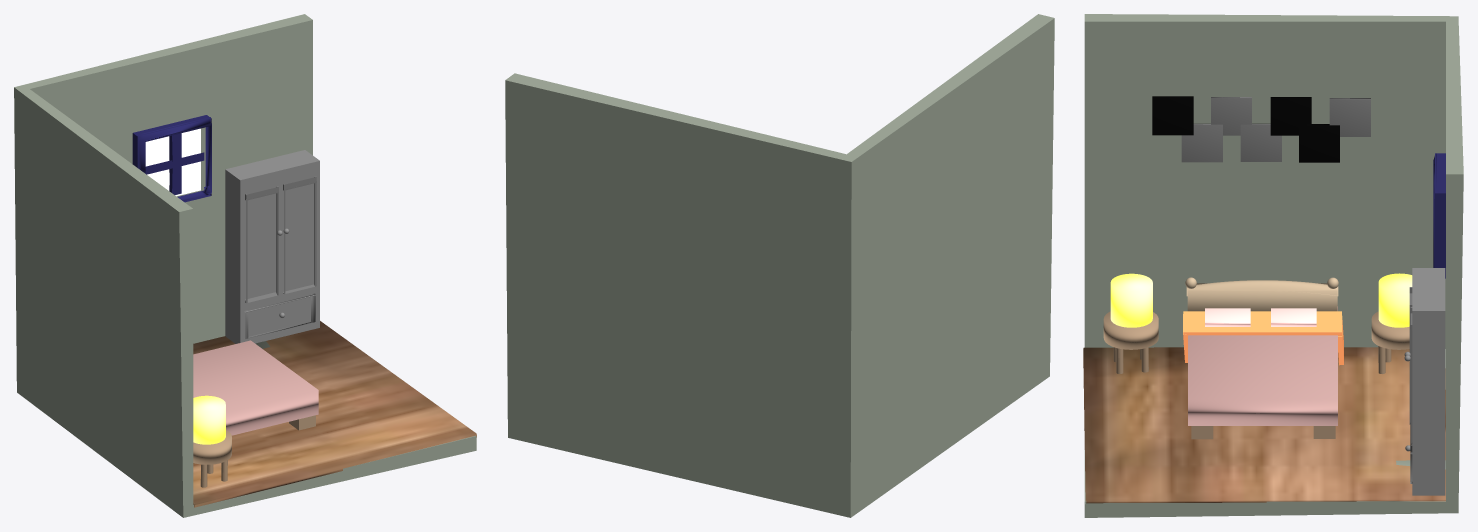
Rendered from myhomeFour.glb.
3 renders of one model, left to right at view 1: azimuth 30°, elevation 25°; view 2: azimuth 150°, elevation 25°; view 3: azimuth 270°, elevation 25°, orthographic. The views are drawn at different scales.
Parts seen in each view (by area): view 1: Cube.028, Cube.001, Cube.016, Cube.002, Cube.027, Cube.014, Cylinder.005, Cube.015, Cylinder, Cube.017, Cube.018, Cube.013 (+1 smaller); view 2: Cube.028; view 3: Cube.028, Cube.001, Cube.002, Cube.016, Cube.007, Cube.009, Cylinder.005, Cylinder.011, Cube.020, Cube.025, Cube.021, Cube.026 (+9 smaller).
Part boxes in pixels (left/top/right/bottom): Cube.028: left=14, top=14, right=476, bottom=517; Cube.001: left=193, top=321, right=476, bottom=507; Cube.016: left=225, top=150, right=319, bottom=343; Cube.002: left=193, top=340, right=318, bottom=435; Cube.027: left=145, top=128, right=200, bottom=196; Cube.014: left=137, top=117, right=211, bottom=200; Cylinder.005: left=193, top=395, right=225, bottom=444; Cube.015: left=145, top=133, right=204, bottom=194; Cylinder: left=193, top=430, right=231, bottom=464; Cube.017: left=245, top=186, right=278, bottom=303; Cube.018: left=283, top=176, right=316, bottom=294; Cube.013: left=132, top=115, right=211, bottom=202; Cube.028: left=505, top=14, right=1054, bottom=517; Cube.028: left=1084, top=14, right=1463, bottom=517; Cube.001: left=1083, top=347, right=1445, bottom=503; Cube.002: left=1188, top=306, right=1337, bottom=425; Cube.016: left=1412, top=268, right=1445, bottom=495; Cube.007: left=1187, top=283, right=1337, bottom=311; Cube.009: left=1183, top=311, right=1341, bottom=336; Cylinder.005: left=1110, top=273, right=1152, bottom=327; Cylinder.011: left=1378, top=273, right=1412, bottom=327; Cube.020: left=1152, top=96, right=1193, bottom=135; Cube.025: left=1299, top=124, right=1339, bottom=162; Cube.021: left=1181, top=123, right=1222, bottom=162; Cube.026: left=1329, top=98, right=1370, bottom=136.
Size of the model in its own units: 7.46 by 7.44 by 7.46.
Materials: 46 (1 with a texture image).
